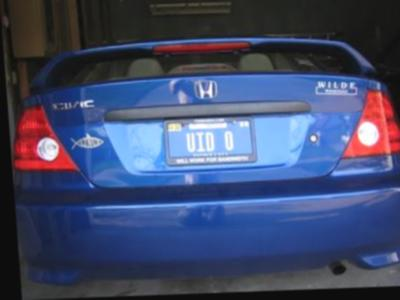License_Plate: (160, 112, 264, 172)
